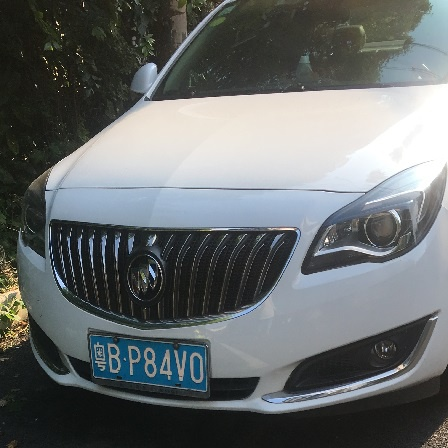plate: (87, 326, 212, 399)
